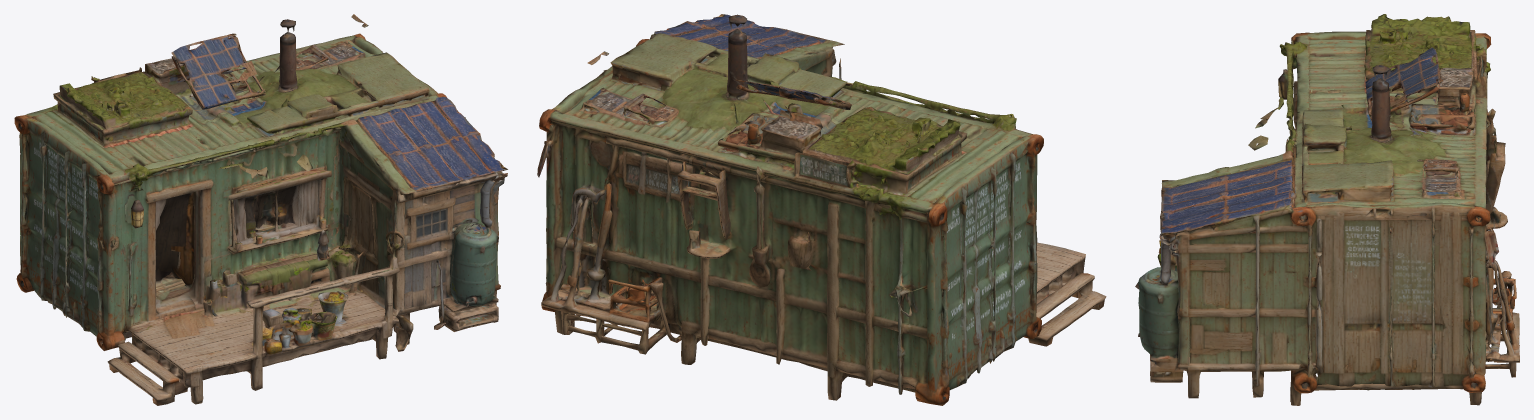
Rendered from House_Container.fbx.
The picture shows the model from 3 angles, left to right: view 1: azimuth 30°, elevation 25°; view 2: azimuth 150°, elevation 25°; view 3: azimuth 270°, elevation 25°; orthographic projection. The views are drawn at different scales.
Parts seen in each view (by area): view 1: texture_mapping; view 2: texture_mapping; view 3: texture_mapping.
Boxes of the visible parts, x1,y1,x2,y2 form: texture_mapping: (14, 14, 507, 405); texture_mapping: (537, 14, 1106, 405); texture_mapping: (1135, 14, 1519, 405).
Size of the model in its own units: 0.997 by 0.7293 by 0.8983.
1 material, 1 textured.
